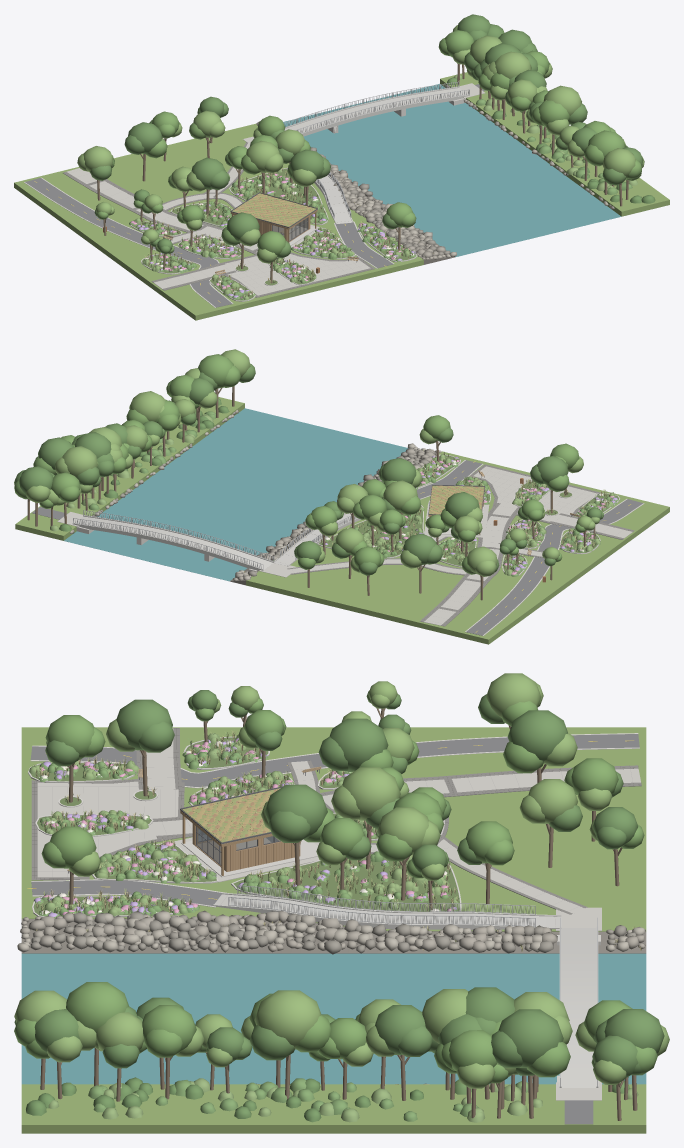
File: clay-princes-island-park-clay-v002.glb
3 renders of one model, top to bottom at view 1: azimuth 30°, elevation 25°; view 2: azimuth 150°, elevation 25°; view 3: azimuth 270°, elevation 25°, orthographic. The views are drawn at different scales.
Visible parts, largest first — view 1: CLAY_WATER, CLAY_LAWN, CLAY_TREE3, CLAY_TREE2, CLAY_TREE, CLAY_PAVING, CLAY_PLANTING, CLAY_DECK, CLAY_ASPHALT, CLAY_SHRUB, CLAY_BEDCOVER, CLAY_SETT (+13 smaller); view 2: CLAY_WATER, CLAY_LAWN, CLAY_TREE3, CLAY_TREE2, CLAY_TREE, CLAY_PAVING, CLAY_DECK, CLAY_ASPHALT, CLAY_PLANTING, CLAY_SETT, CLAY_BARK, CLAY_SHRUB (+12 smaller); view 3: CLAY_LAWN, CLAY_WATER, CLAY_TREE3, CLAY_TREE2, CLAY_TREE, CLAY_PAVING, CLAY_PLANTING, CLAY_DECK, CLAY_ASPHALT, CLAY_SHRUB, CLAY_BEDCOVER, CLAY_BARK (+19 smaller).
Part boxes in pixels (x1,y1,x2,y2): CLAY_WATER: [283, 83, 621, 257]; CLAY_LAWN: [14, 72, 669, 320]; CLAY_TREE3: [90, 14, 655, 258]; CLAY_TREE2: [77, 25, 644, 263]; CLAY_TREE: [97, 30, 642, 255]; CLAY_PAVING: [66, 83, 485, 295]; CLAY_PLANTING: [129, 99, 632, 299]; CLAY_DECK: [284, 86, 469, 224]; CLAY_ASPHALT: [25, 84, 485, 307]; CLAY_SHRUB: [133, 74, 641, 300]; CLAY_BEDCOVER: [132, 168, 416, 300]; CLAY_SETT: [63, 142, 374, 297]; CLAY_WATER: [64, 408, 408, 581]; CLAY_LAWN: [15, 397, 669, 644]; CLAY_TREE3: [14, 363, 603, 575]; CLAY_TREE2: [14, 349, 599, 576]; CLAY_TREE: [14, 354, 586, 574]; CLAY_PAVING: [57, 466, 633, 626]; CLAY_DECK: [72, 513, 360, 570]; CLAY_ASPHALT: [32, 460, 643, 635]; CLAY_PLANTING: [88, 411, 618, 576]; CLAY_SETT: [287, 464, 634, 626]; CLAY_BARK: [27, 386, 595, 600]; CLAY_SHRUB: [50, 414, 615, 575]; CLAY_LAWN: [21, 727, 646, 1133]; CLAY_WATER: [21, 953, 646, 1084]; CLAY_TREE3: [14, 690, 664, 1122]; CLAY_TREE2: [14, 673, 669, 1088]; CLAY_TREE: [14, 690, 657, 1083]; CLAY_PAVING: [37, 728, 640, 1100]; CLAY_PLANTING: [34, 732, 528, 1121]; CLAY_DECK: [213, 892, 598, 1087]; CLAY_ASPHALT: [30, 734, 639, 1124]; CLAY_SHRUB: [29, 733, 638, 1122]; CLAY_BEDCOVER: [30, 737, 459, 916]; CLAY_BARK: [40, 708, 637, 1120].
Size of the model in its own units: 101 by 13.58 by 68.28.
